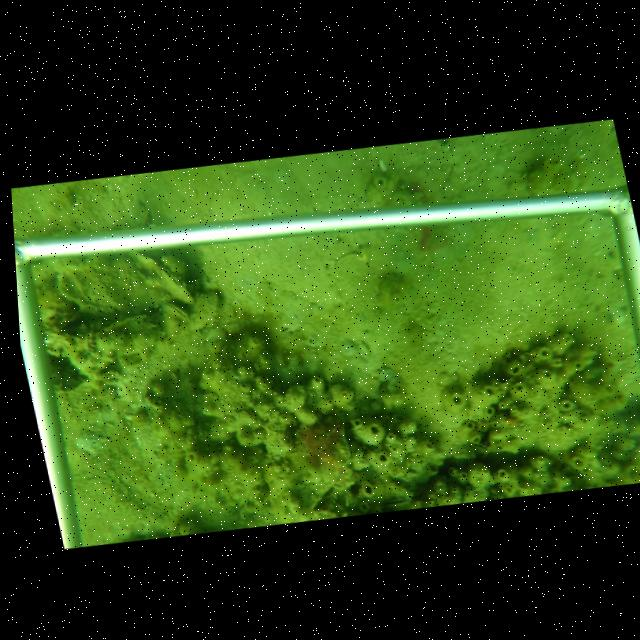Oyster-Closed: (151, 265, 195, 303), (192, 290, 224, 330), (158, 301, 191, 325)
